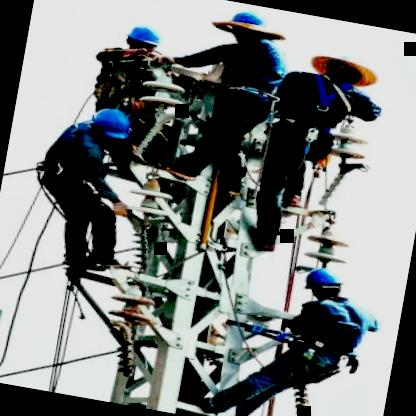helmet: (308, 46, 379, 92), (220, 4, 278, 46), (295, 264, 346, 304), (86, 104, 132, 146), (121, 20, 167, 58)
